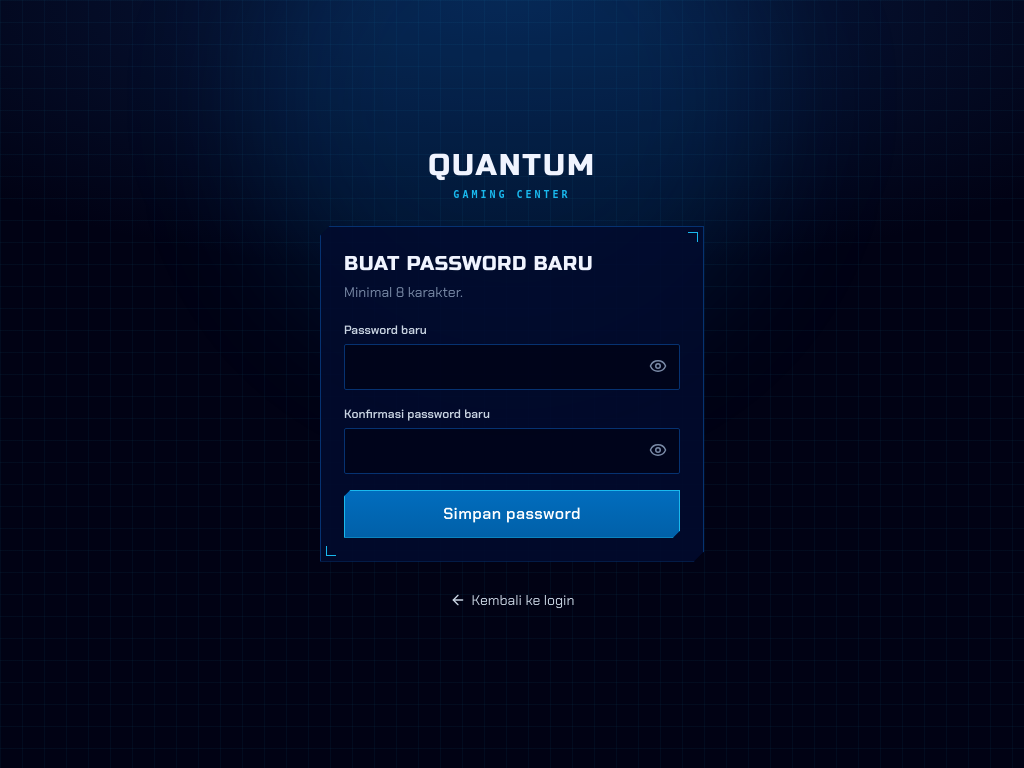
Scenario: ResetPasswordView › 2c review fixes › reset: a token that expires while filling the form switches to the invalid state
The width and height of the screenshot is (1024, 768).
Type "passwordbaru1" into the password field with id "reset-new" at [512, 366], box left=344, top=344, right=680, bottom=390
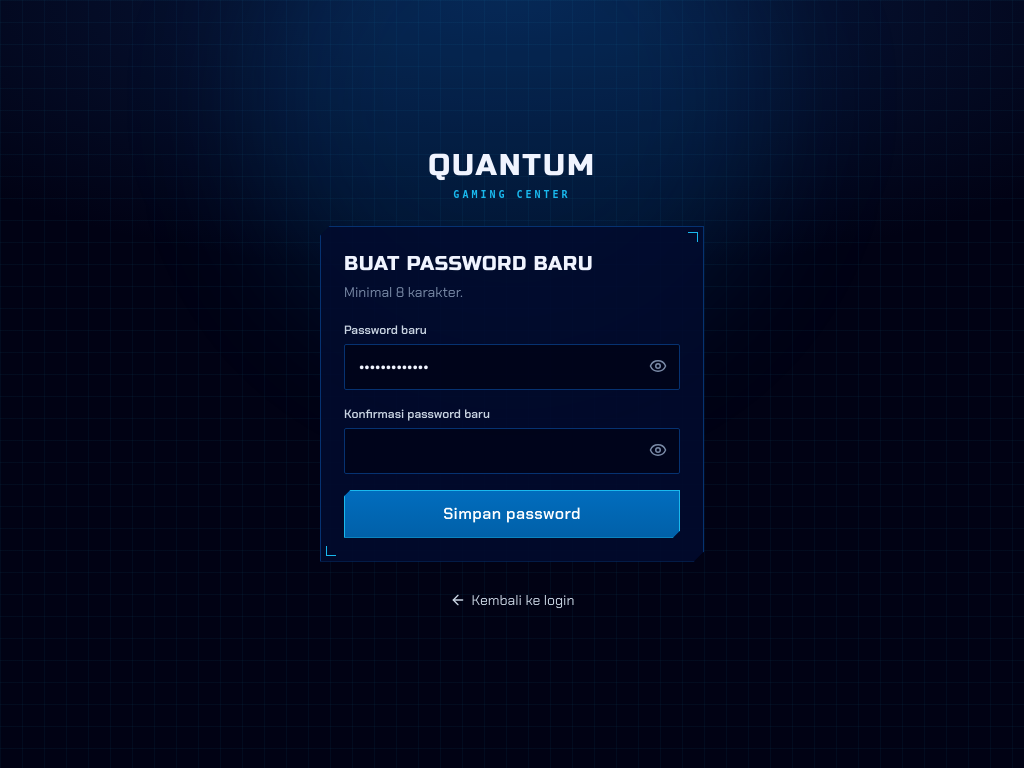
Type "passwordbaru1" into the password field with id "reset-confirm" at [512, 450], box left=344, top=428, right=680, bottom=474
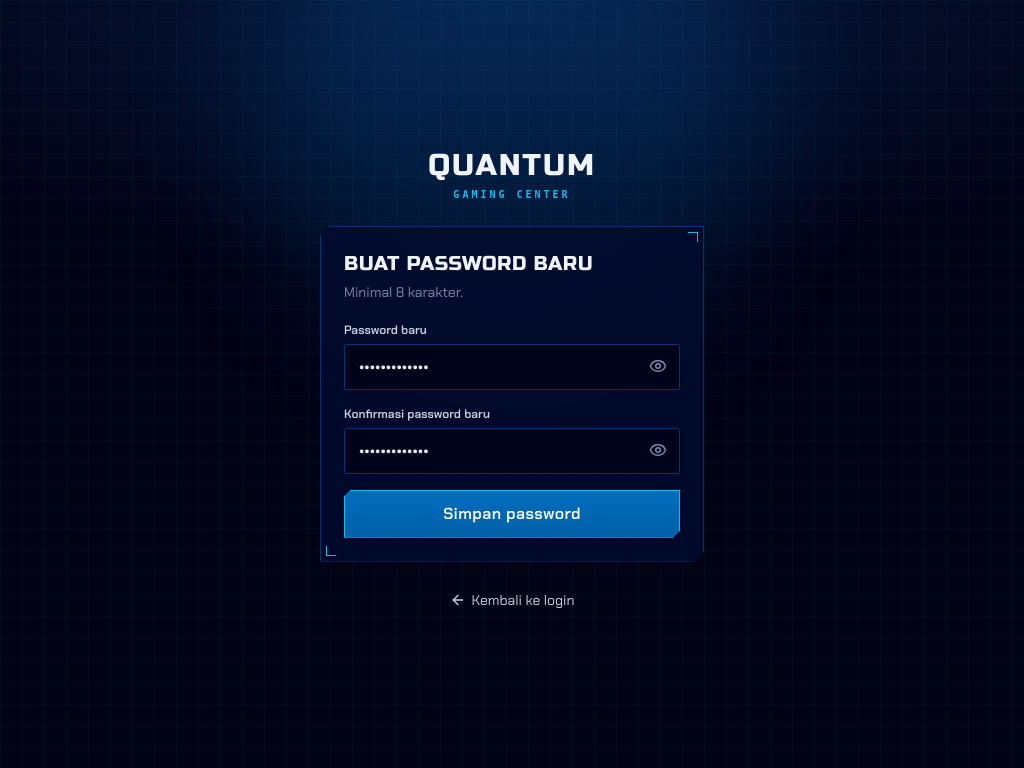
Submit the form, box left=344, top=322, right=680, bottom=538
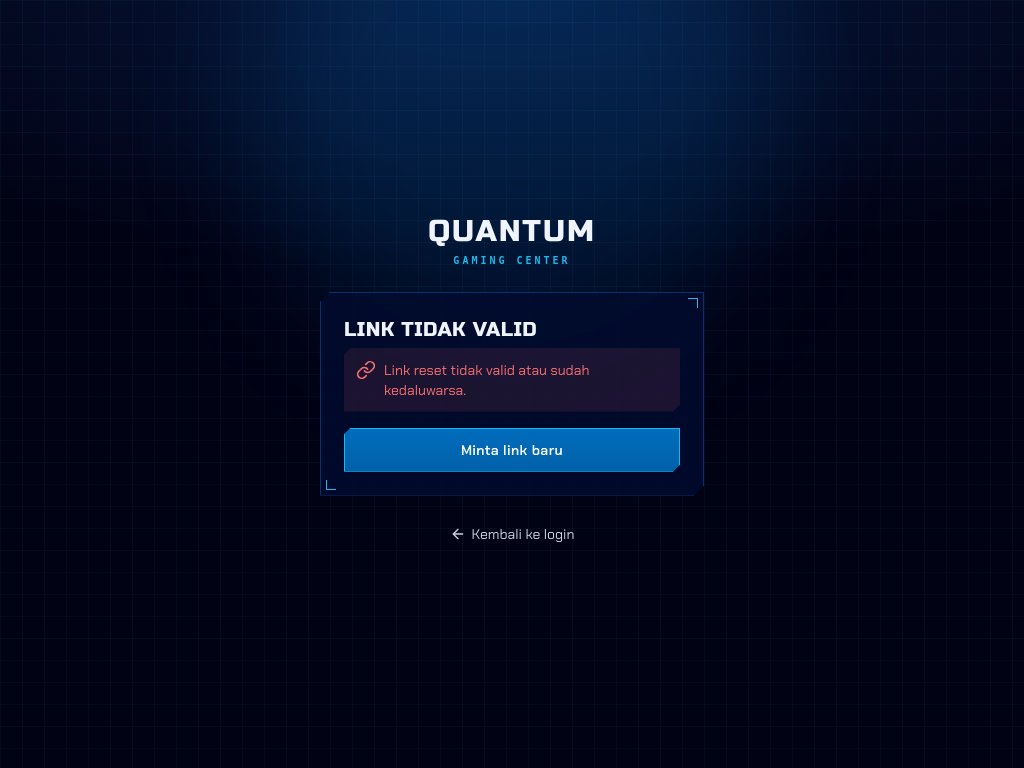
Result: the link to "/forgot-password" is shown at left=344, top=428, right=680, bottom=472
Result: the heading "Link tidak valid" is shown at left=344, top=316, right=537, bottom=342
